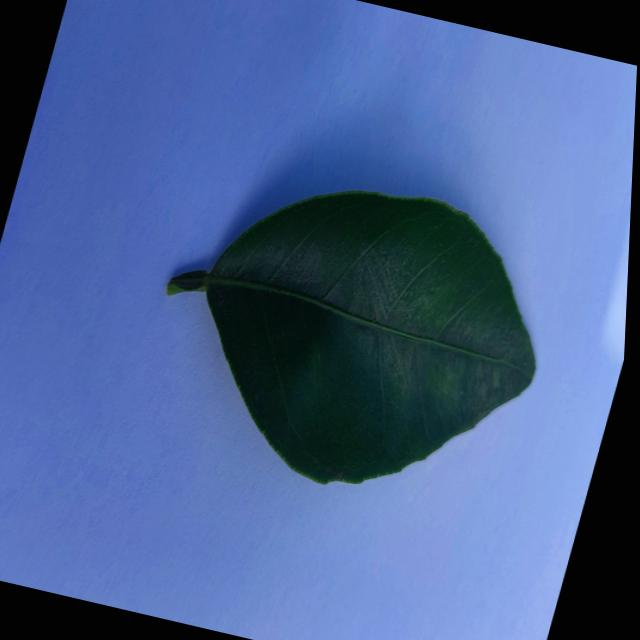greening: (166, 191, 533, 483)
